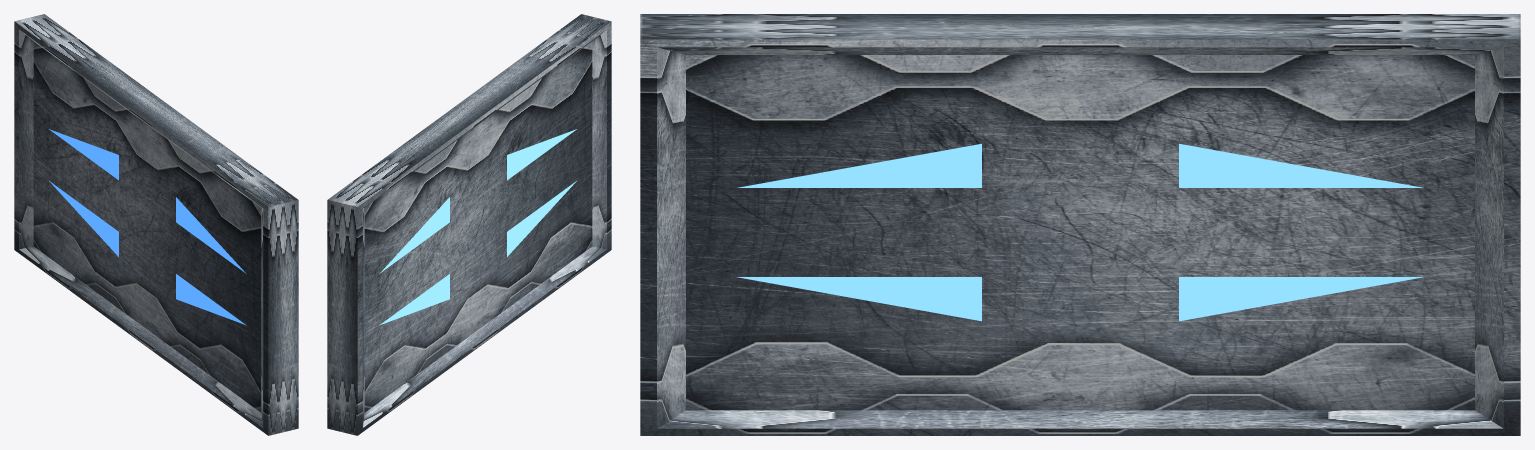
Rendered from MuroLvL_01.fbx.
The picture shows the model from 3 angles, left to right: view 1: azimuth 30°, elevation 25°; view 2: azimuth 150°, elevation 25°; view 3: azimuth 270°, elevation 25°; orthographic projection. The views are drawn at different scales.
Visible parts, largest first — view 1: Cube; view 2: Cube; view 3: Cube.
Boxes of the visible parts, x1,y1,x2,y2 form: Cube: [14, 14, 298, 435]; Cube: [327, 14, 611, 435]; Cube: [640, 14, 1520, 435].
Bounding box in the file's own units: 205 × 1453 × 2922.
